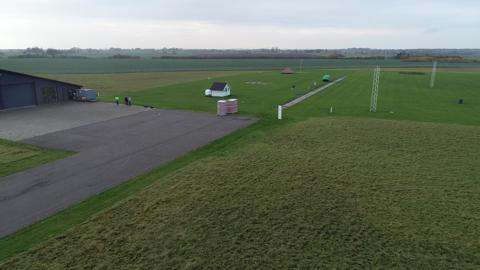RockwoolPallet: (228, 98, 238, 112)
